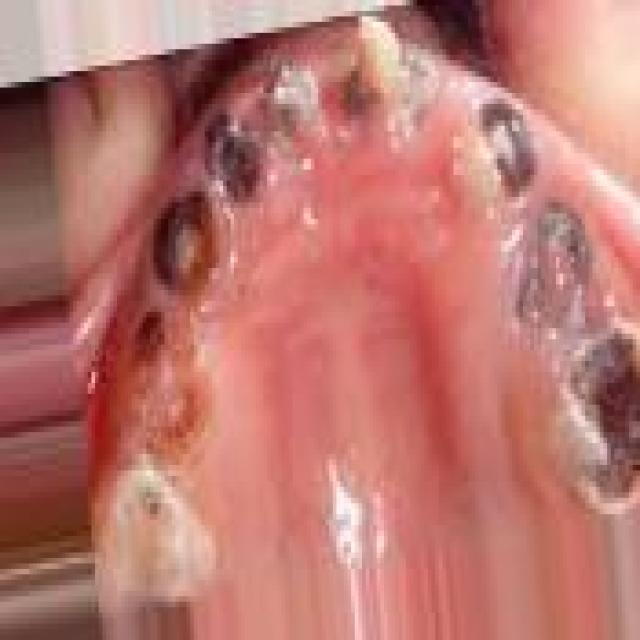caries: (540, 314, 640, 517), (482, 191, 594, 350), (112, 304, 214, 466), (327, 14, 440, 153), (445, 70, 543, 222), (144, 183, 233, 315), (200, 98, 281, 217), (262, 44, 334, 154)
